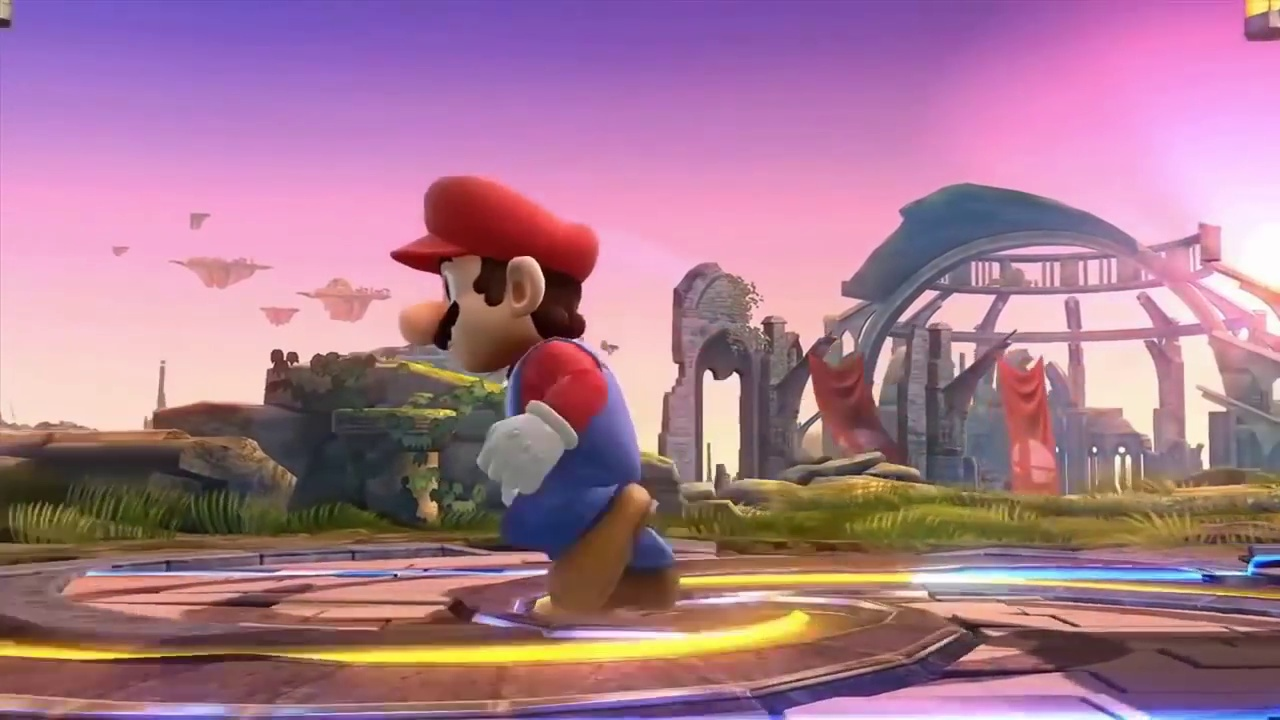Mario: (391, 174, 680, 612)
